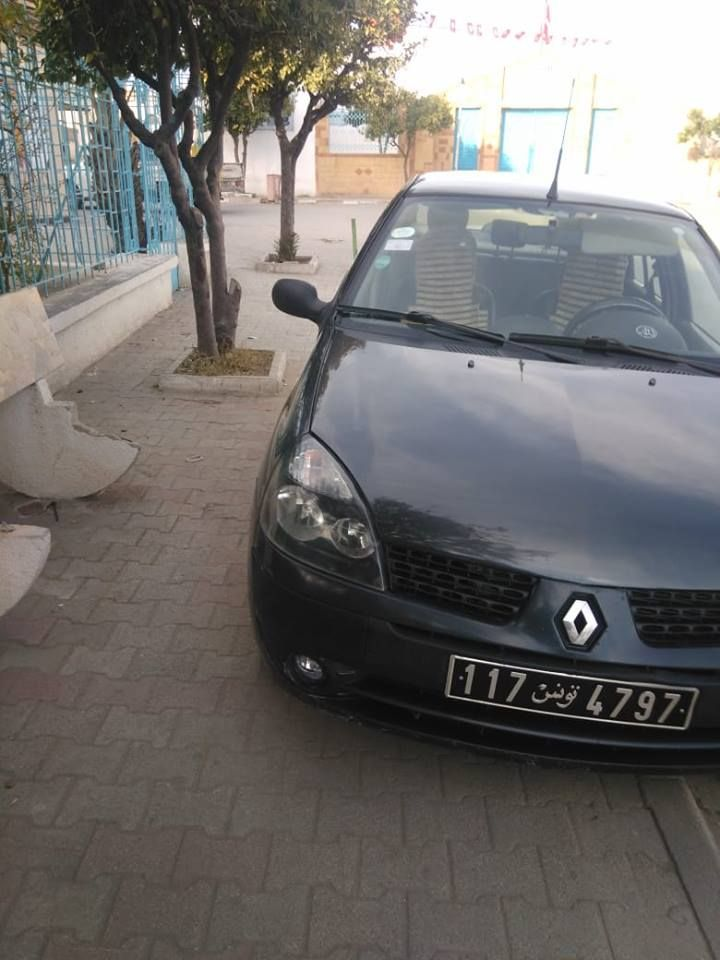LP: (442, 650, 702, 734)
